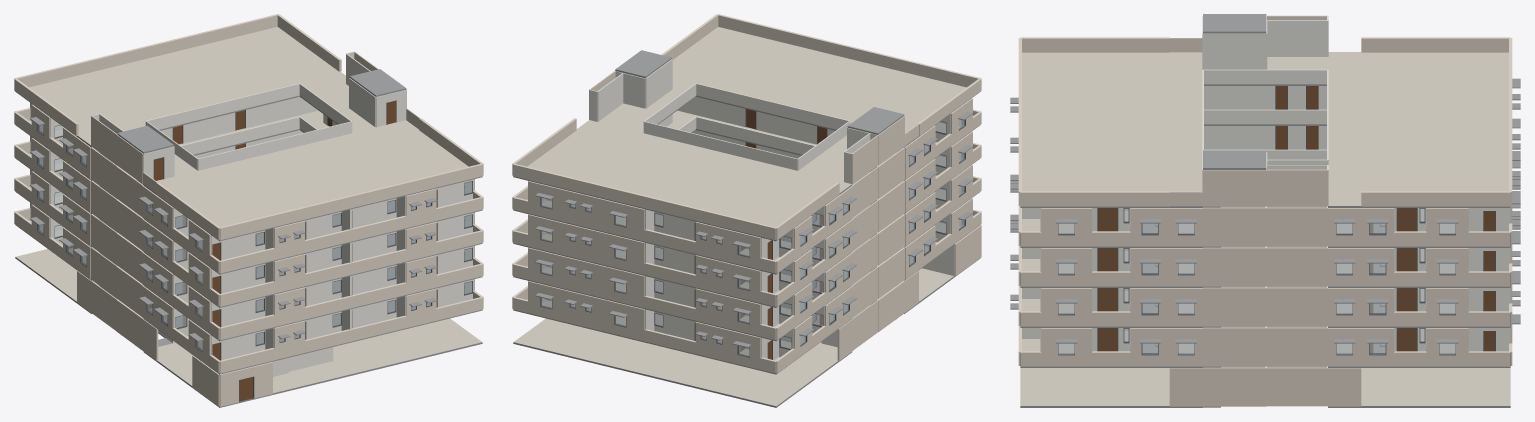
The model's file is RH_Browser_Acceptance.glb.
3 renders of one model, left to right at view 1: azimuth 30°, elevation 25°; view 2: azimuth 150°, elevation 25°; view 3: azimuth 270°, elevation 25°, orthographic. The views are drawn at different scales.
Visible parts, largest first — view 1: floor_terrace_05::terrace__solar_pv_array:floor-finish:8243, floor_terrace_05::terrace__open_waterproof_1:floor-finish:82, floor_terrace_05::terrace__open_waterproof_3:floor-finish:82, floor_terrace_05::terrace__open_waterproof_2:floor-finish:82, floor_terrace_05::terrace__yoga_deck_3:floor-finish:8248, floor_terrace_05::terrace__ohwt_tank:floor-finish:8239, floor_terrace_05::terrace__yoga_deck_2:floor-finish:8246, floor_terrace_05::terrace__yoga_deck_1:floor-finish:8244, floor_terrace_05::apt-wall:x:15050:7400:22600, floor_terrace_05::apt-wall:x:23950:7400:22600, floor_terrace_05::apt-wall:x:2000:2000:15000, floor_terrace_05::apt-wall:x:2000:15000:28000 (+109 smaller); view 2: floor_terrace_05::terrace__solar_pv_array:floor-finish:8243, floor_terrace_05::terrace__open_waterproof_1:floor-finish:82, floor_stilt_00::stilt__driveway_east_02:floor-finish:27, floor_stilt_00::stilt__driveway_east_03:floor-finish:34, floor_terrace_05::terrace__yoga_deck_3:floor-finish:8248, floor_terrace_05::terrace__corridor_vestibule_4:floor-finish, floor_terrace_05::terrace__yoga_deck_1:floor-finish:8244, floor_terrace_05::terrace__yoga_deck_2:floor-finish:8246, floor_terrace_05::terrace__open_waterproof_3:floor-finish:82, floor_terrace_05::terrace__open_waterproof_2:floor-finish:82, floor_terrace_05::apt-wall:x:23950:7400:22600, floor_terrace_05::apt-wall:x:15050:7400:22600 (+90 smaller); view 3: floor_terrace_05::terrace__solar_pv_array:floor-finish:8243, floor_terrace_05::terrace__open_waterproof_2:floor-finish:82, floor_terrace_05::terrace__corridor_vestibule_4:floor-finish, floor_terrace_05::terrace__yoga_deck_2:floor-finish:8246, floor_terrace_05::terrace__open_waterproof_1:floor-finish:82, floor_terrace_05::terrace__open_waterproof_3:floor-finish:82, floor_terrace_05::terrace__ohwt_tank:floor-finish:8239, floor_terrace_05::terrace__yoga_deck_3:floor-finish:8248, floor_terrace_05::terrace__yoga_deck_1:floor-finish:8244, floor_stilt_00::stilt__driveway_east_01:floor-finish:20, floor_stilt_00::stilt__driveway_east_03:floor-finish:34, floor_level_03::apt-wall:y:28000:15050:19550 (+89 smaller).
Part boxes in pixels (x1,y1,x2,y2): floor_terrace_05::terrace__solar_pv_array:floor-finish:8243: (171, 162, 338, 227); floor_terrace_05::terrace__open_waterproof_1:floor-finish:82: (289, 130, 452, 186); floor_terrace_05::terrace__open_waterproof_3:floor-finish:82: (148, 27, 310, 82); floor_terrace_05::terrace__open_waterproof_2:floor-finish:82: (29, 58, 180, 111); floor_terrace_05::terrace__yoga_deck_3:floor-finish:8248: (181, 51, 338, 103); floor_terrace_05::terrace__ohwt_tank:floor-finish:8239: (156, 120, 418, 190); floor_terrace_05::terrace__yoga_deck_2:floor-finish:8246: (63, 83, 208, 135); floor_terrace_05::terrace__yoga_deck_1:floor-finish:8244: (323, 155, 468, 198); floor_terrace_05::apt-wall:x:15050:7400:22600: (198, 121, 351, 170); floor_terrace_05::apt-wall:x:23950:7400:22600: (146, 83, 299, 129); floor_terrace_05::apt-wall:x:2000:2000:15000: (219, 195, 351, 240); floor_terrace_05::apt-wall:x:2000:15000:28000: (351, 164, 483, 207); floor_terrace_05::terrace__solar_pv_array:floor-finish:8243: (787, 58, 966, 132); floor_terrace_05::terrace__open_waterproof_1:floor-finish:82: (672, 47, 820, 103); floor_stilt_00::stilt__driveway_east_02:floor-finish:27: (645, 350, 808, 406); floor_stilt_00::stilt__driveway_east_03:floor-finish:34: (513, 318, 676, 374); floor_terrace_05::terrace__yoga_deck_3:floor-finish:8248: (549, 130, 706, 182); floor_terrace_05::terrace__corridor_vestibule_4:floor-finish: (576, 120, 851, 192); floor_terrace_05::terrace__yoga_deck_1:floor-finish:8244: (691, 27, 847, 78); floor_terrace_05::terrace__yoga_deck_2:floor-finish:8246: (679, 162, 824, 211); floor_terrace_05::terrace__open_waterproof_3:floor-finish:82: (527, 151, 678, 198); floor_terrace_05::terrace__open_waterproof_2:floor-finish:82: (657, 182, 796, 227); floor_terrace_05::apt-wall:x:23950:7400:22600: (644, 121, 797, 170); floor_terrace_05::apt-wall:x:15050:7400:22600: (696, 83, 849, 129); floor_terrace_05::terrace__solar_pv_array:floor-finish:8243: (1022, 52, 1169, 128); floor_terrace_05::terrace__open_waterproof_2:floor-finish:82: (1428, 52, 1508, 128); floor_terrace_05::terrace__corridor_vestibule_4:floor-finish: (1328, 52, 1361, 205); floor_terrace_05::terrace__yoga_deck_2:floor-finish:8246: (1361, 52, 1428, 128); floor_terrace_05::terrace__open_waterproof_1:floor-finish:82: (1087, 129, 1169, 191); floor_terrace_05::terrace__open_waterproof_3:floor-finish:82: (1428, 129, 1508, 191); floor_terrace_05::terrace__ohwt_tank:floor-finish:8239: (1169, 52, 1202, 191); floor_terrace_05::terrace__yoga_deck_3:floor-finish:8248: (1361, 129, 1428, 191); floor_terrace_05::terrace__yoga_deck_1:floor-finish:8244: (1022, 129, 1087, 191); floor_stilt_00::stilt__driveway_east_01:floor-finish:20: (1090, 368, 1169, 405); floor_stilt_00::stilt__driveway_east_03:floor-finish:34: (1431, 368, 1510, 405); floor_level_03::apt-wall:y:28000:15050:19550: (1203, 247, 1266, 286).
Size of the model in its own units: 27.43 by 18.9 by 36.43.
